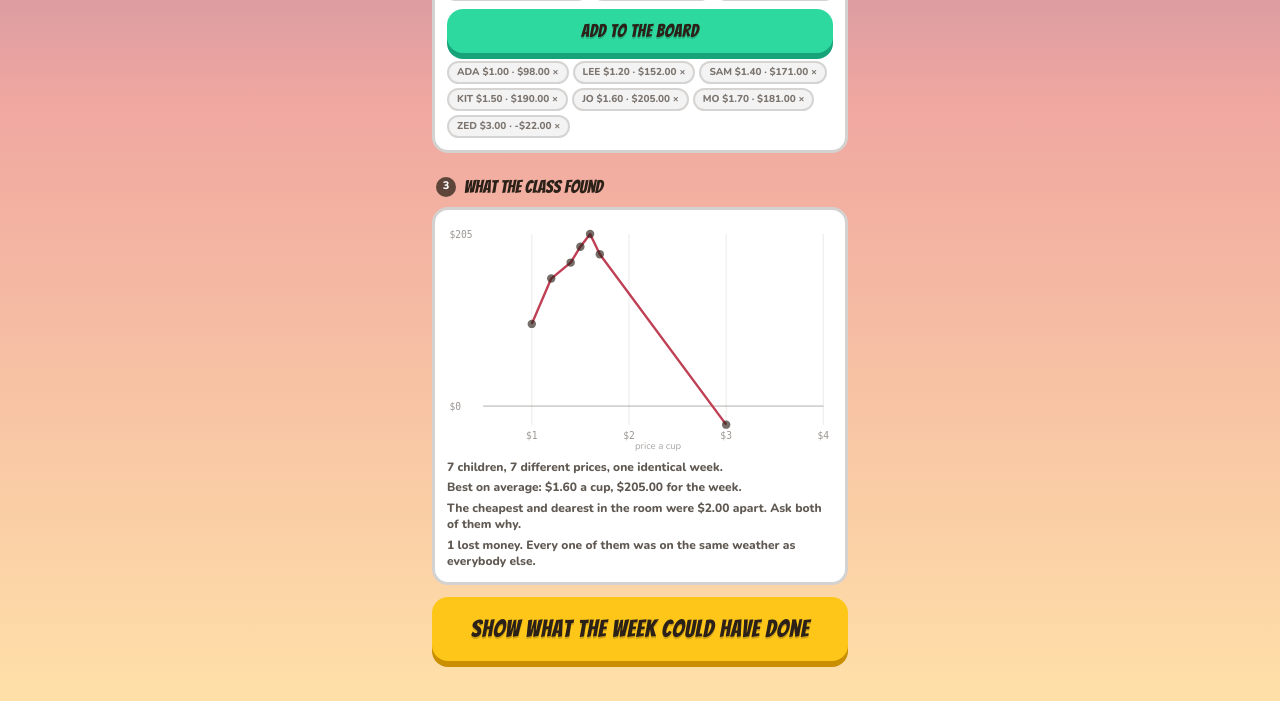
it: the lesson › keeps the answer back until the teacher asks for it
(page scrolled)
Expected: the text "played at every price" is not shown
Click the button "Show what the week could have done" at (640,629), box [432,597,848,661]
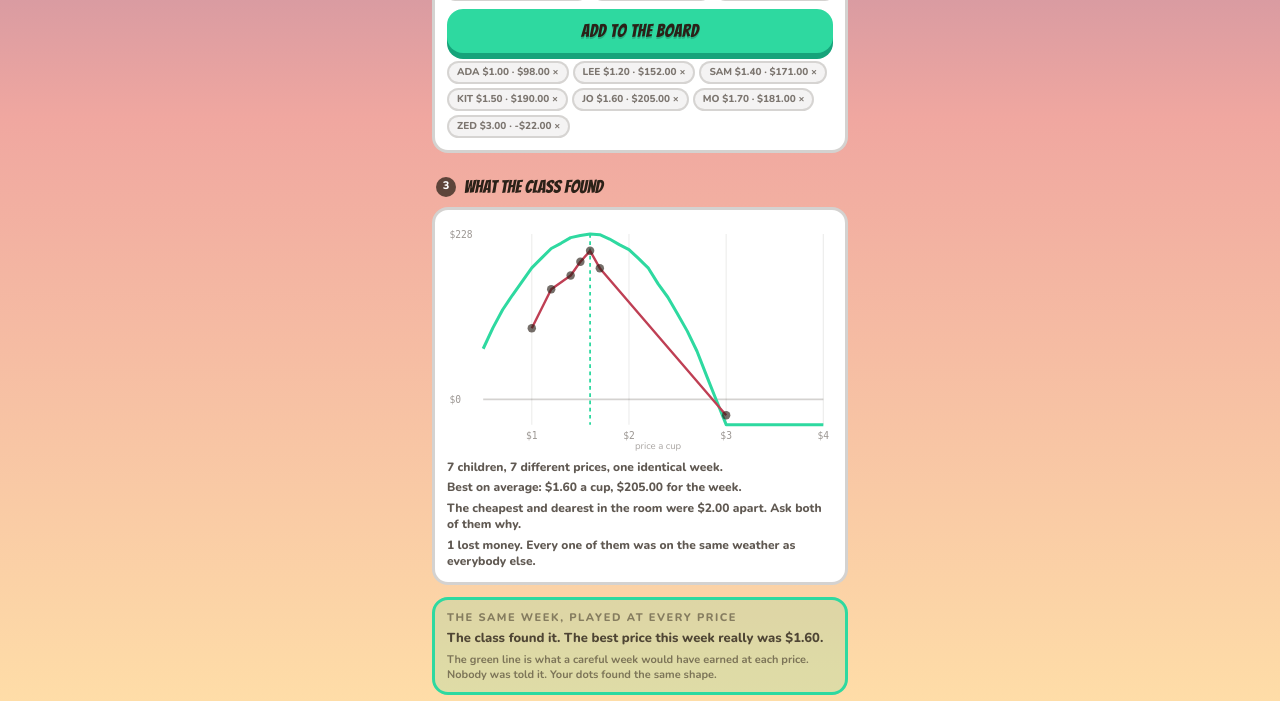
Expected: the text "The same week, played at every price" is shown, [447,610,737,625]
